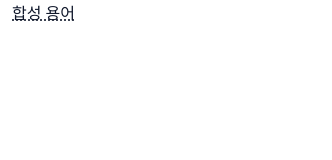
opens tooltips only on hover or focus, links descriptions and dismisses on leave, blur and Escape
Earlier steps of the test are not shown.
Expected: the tooltip "합성 설명" is not shown
Focus the text "합성 용어" at (43, 12), box [12, 0, 75, 24]
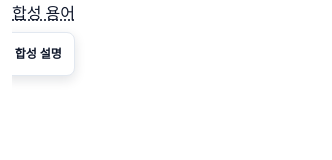
Result: the tooltip reads "합성 설명" at [15, 47, 62, 61]
Leave the text "합성 용어", box [12, 0, 75, 24]
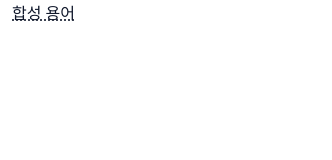
Result: the tooltip "합성 설명" is gone
Focus the text "합성 용어" at (43, 12), box [12, 0, 75, 24]
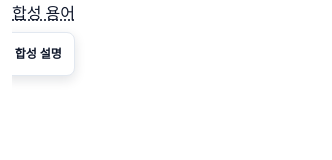
Result: the tooltip reads "합성 설명" at [15, 47, 62, 61]
Press Escape in the text "합성 용어", box [12, 0, 75, 24]
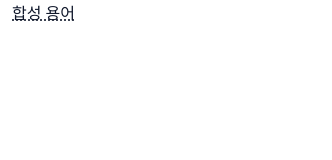
Result: the tooltip "합성 설명" is gone
Hover over the text "합성 용어" at (43, 12), box [12, 0, 75, 24]
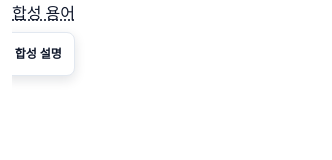
Result: the tooltip reads "합성 설명" at [15, 47, 62, 61]
Press Escape
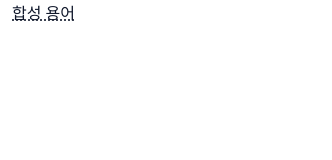
Result: the tooltip "합성 설명" is gone
